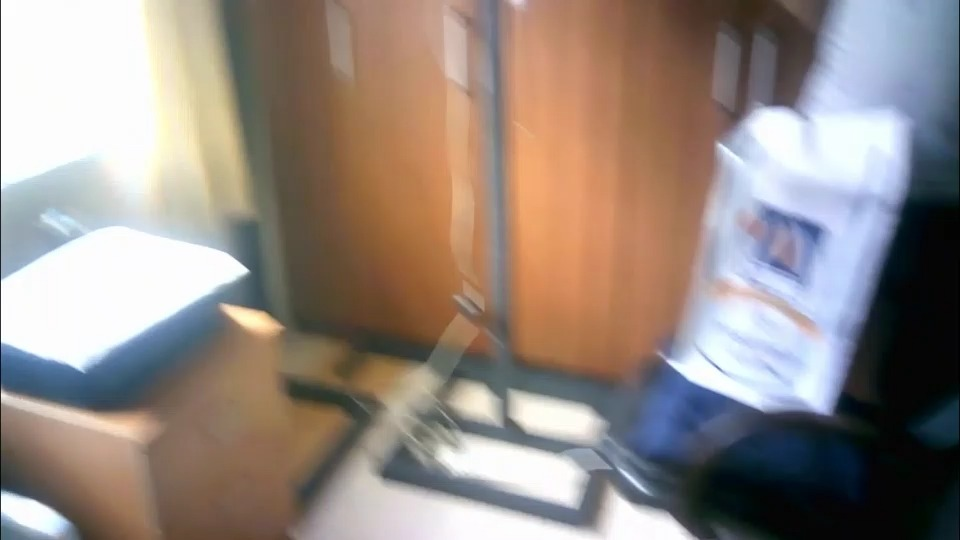wheat_flour_blue_label: (659, 105, 912, 414)
